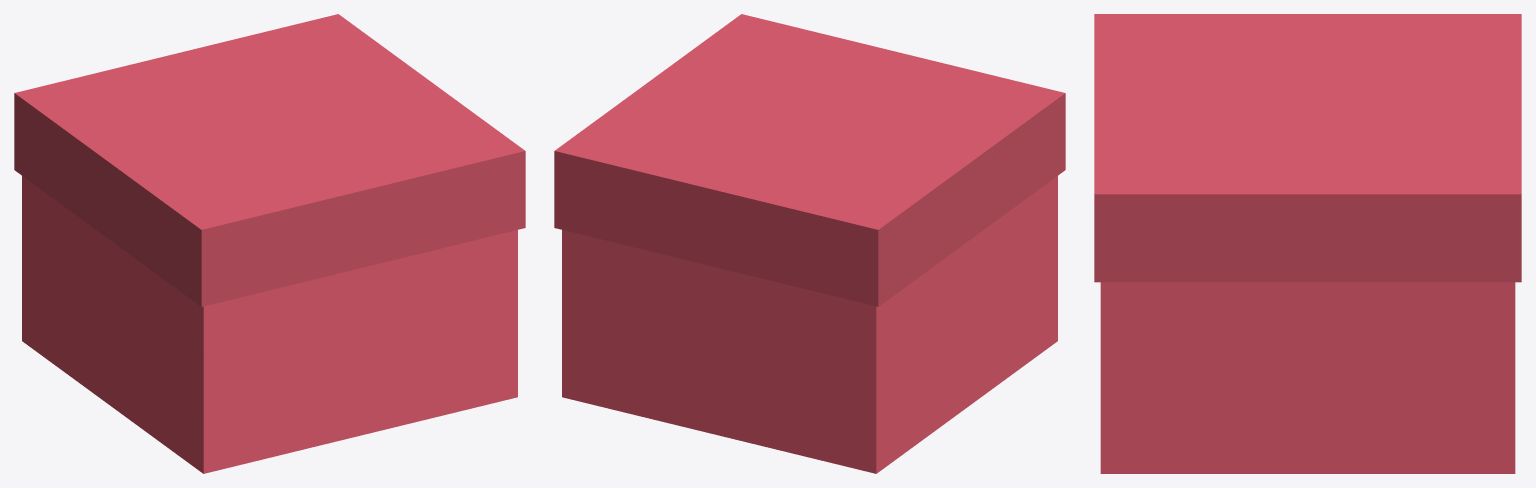
The model's file is red-box.fbx.
3 renders of one model, left to right at view 1: azimuth 30°, elevation 25°; view 2: azimuth 150°, elevation 25°; view 3: azimuth 270°, elevation 25°, orthographic. The views are drawn at different scales.
Parts seen in each view (by area): view 1: top.002, top.001; view 2: top.002, top.001; view 3: top.002, top.001.
Part boxes in pixels (box(x1,y1,x2,y2)): top.002: box(14, 14, 525, 306); top.001: box(22, 176, 517, 473); top.002: box(554, 14, 1065, 306); top.001: box(562, 176, 1057, 473); top.002: box(1094, 14, 1521, 282); top.001: box(1100, 282, 1515, 473).
Bounding box in the file's own units: 238 × 173 × 238.
